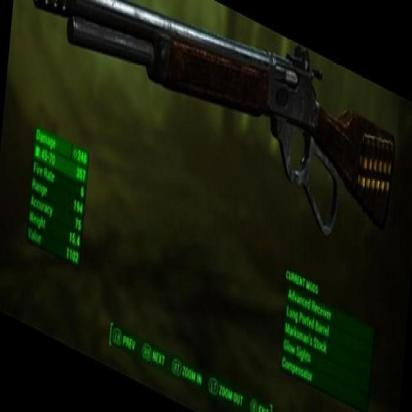Gun: (20, 0, 400, 273)
